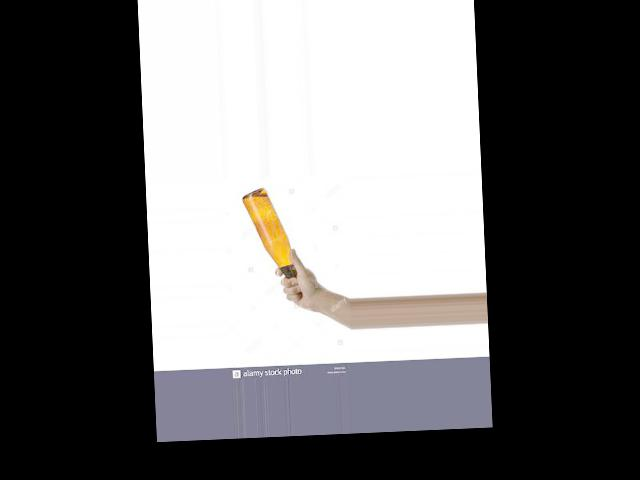beer: (242, 185, 301, 299)
